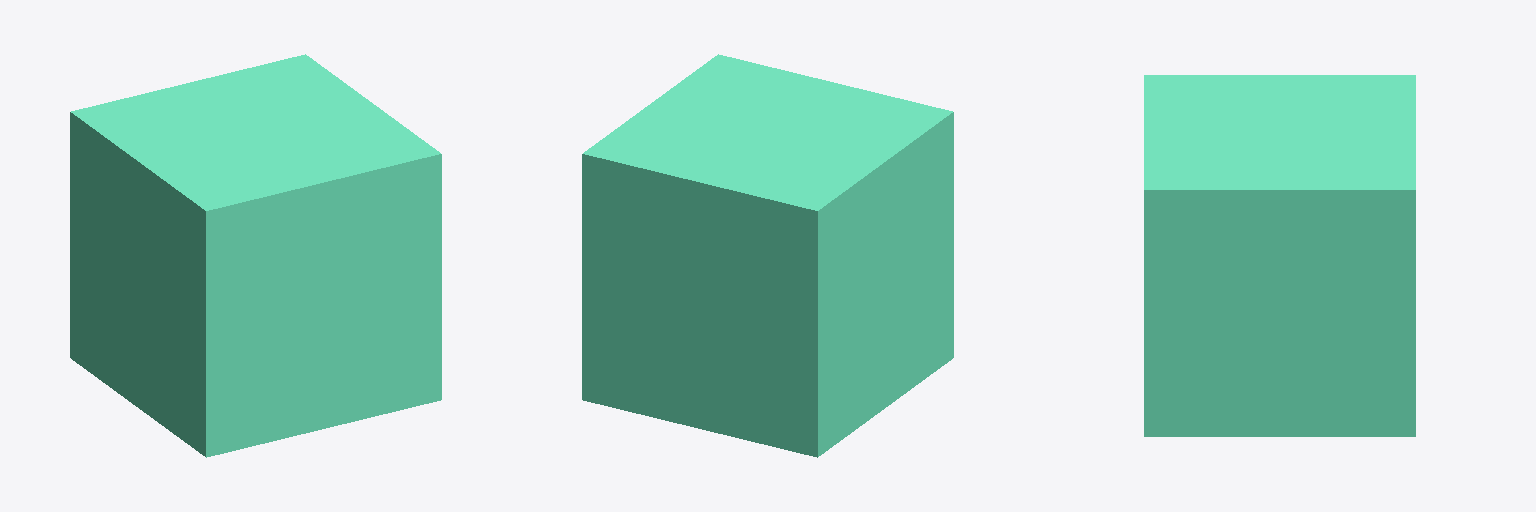
The picture shows the model from 3 angles: view 1: azimuth 30°, elevation 25°; view 2: azimuth 150°, elevation 25°; view 3: azimuth 270°, elevation 25°; orthographic projection.
Parts seen in each view (by area): view 1: Block_Cube; view 2: Block_Cube; view 3: Block_Cube.
Part boxes in pixels (x1,y1,x2,y2): Block_Cube: (70,54,441,457); Block_Cube: (582,54,953,457); Block_Cube: (1144,75,1415,436).
Size of the model in its own units: 2 by 2 by 2.
1 materials, 1 textured.